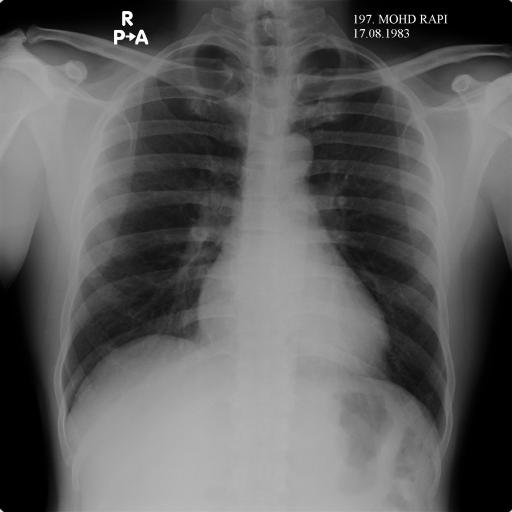kardiomegali: (52, 24, 456, 442)
